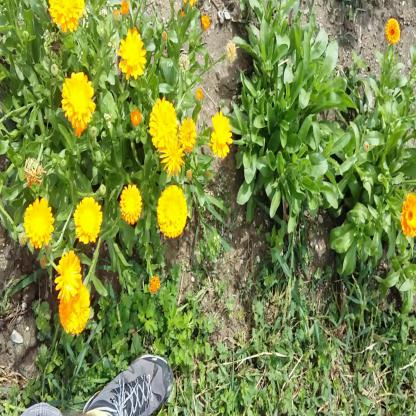marigold: (59, 72, 96, 137), (59, 281, 87, 335), (157, 185, 185, 237), (148, 98, 175, 150), (45, 0, 85, 34), (118, 30, 146, 76), (24, 200, 51, 246), (55, 252, 80, 300), (72, 199, 99, 241), (118, 182, 143, 220), (161, 134, 183, 176), (210, 112, 231, 154), (400, 194, 416, 239), (178, 117, 196, 151), (385, 17, 401, 44)
